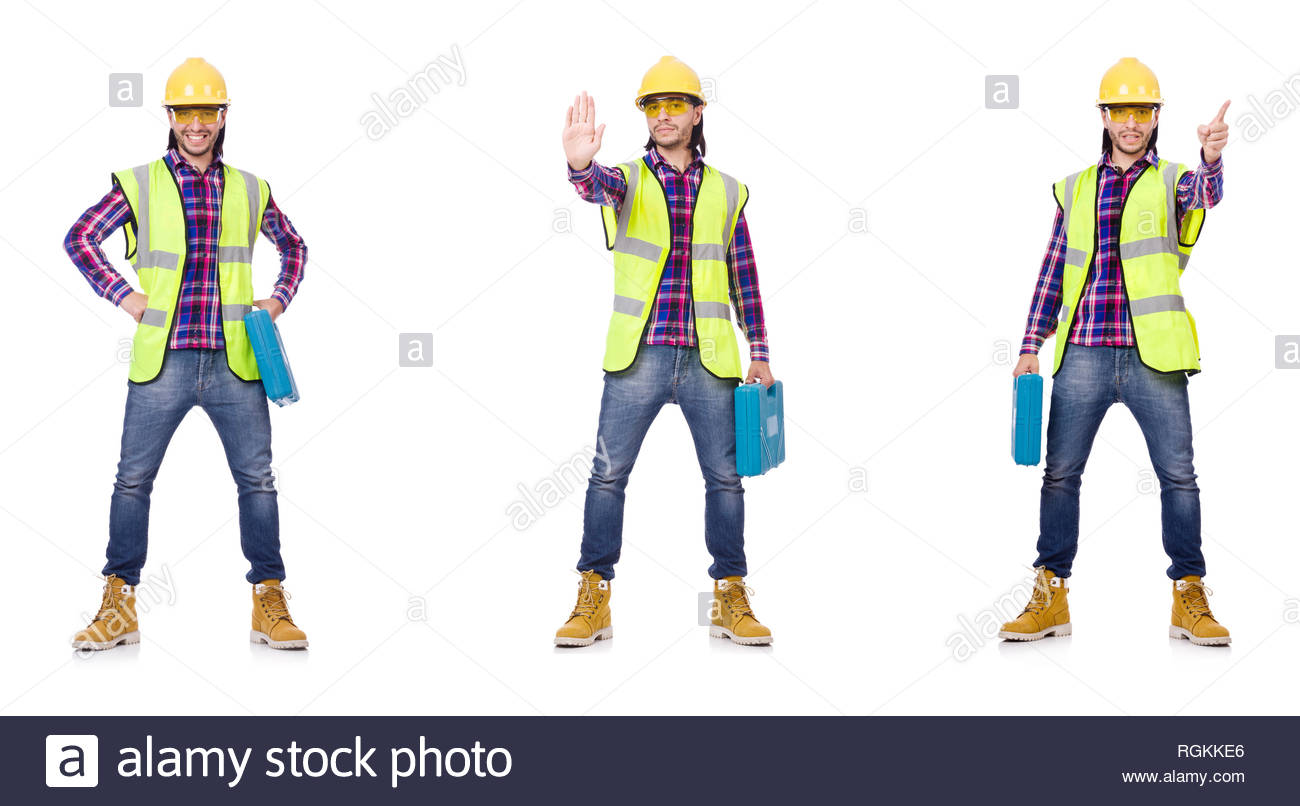Person_wearing_helmet: (143, 50, 253, 126), (1089, 50, 1178, 118), (631, 52, 722, 115)
